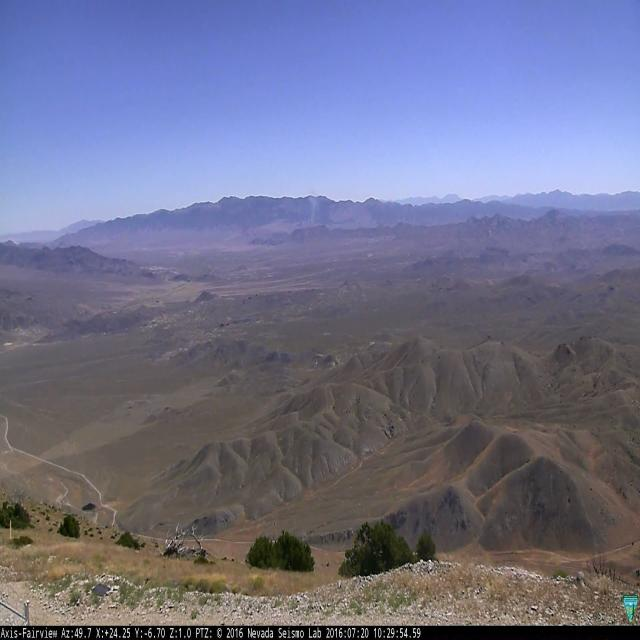smoke: (308, 195, 316, 222)
